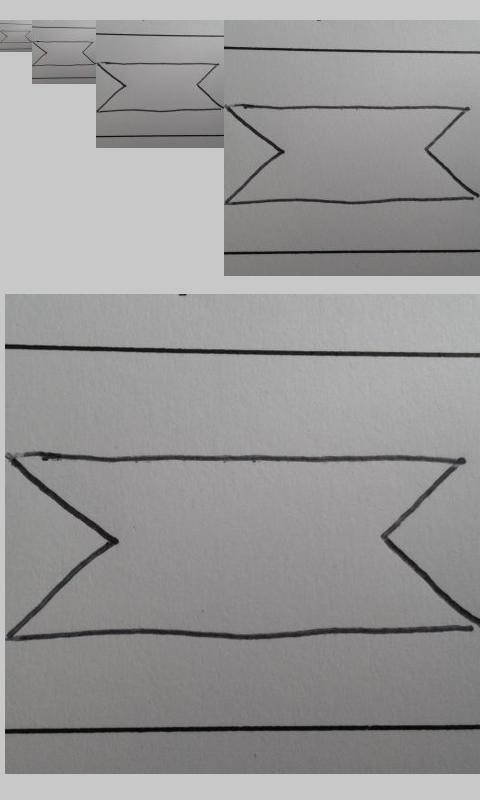edit_text: (9, 452, 478, 641), (226, 104, 477, 205), (97, 61, 223, 113), (32, 40, 96, 66), (1, 30, 31, 43)
